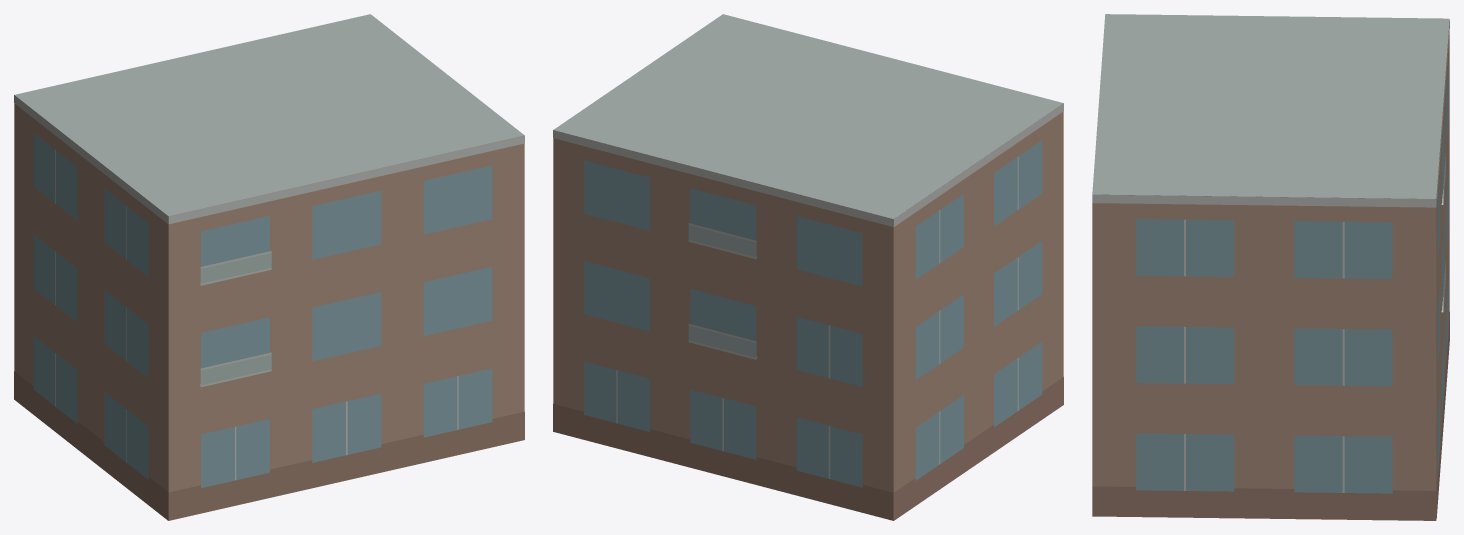
Rendered from survey-upis-33040379.glb.
3 renders of one model, left to right at view 1: azimuth 30°, elevation 25°; view 2: azimuth 150°, elevation 25°; view 3: azimuth 270°, elevation 25°, orthographic. The views are drawn at different scales.
Parts seen in each view (by area): view 1: survey-upis-33040379.tmp; view 2: survey-upis-33040379.tmp; view 3: survey-upis-33040379.tmp.
Boxes of the visible parts, x1,y1,x2,y2 form: survey-upis-33040379.tmp: [14, 14, 524, 520]; survey-upis-33040379.tmp: [553, 14, 1063, 520]; survey-upis-33040379.tmp: [1092, 14, 1449, 520].
Bounding box in the file's own units: 11.29 × 9.15 × 9.22.
